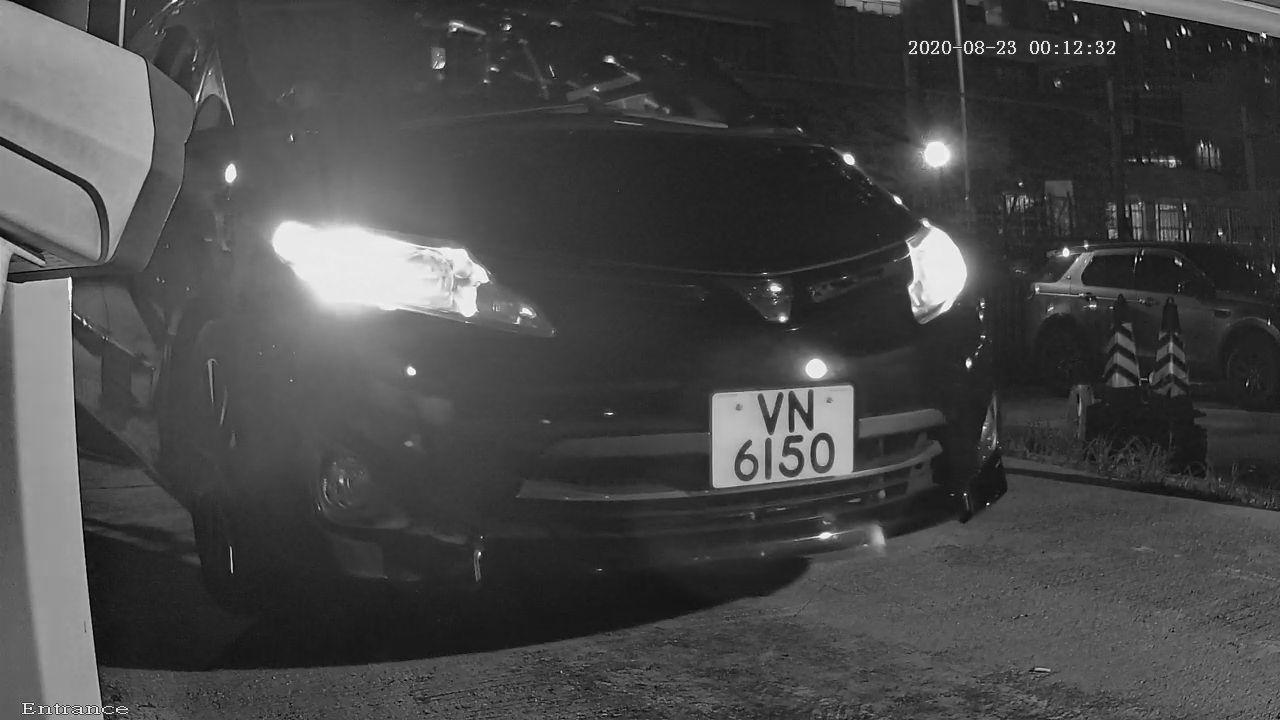Car: (20, 16, 1106, 655)
License Plate: (659, 331, 900, 519)
